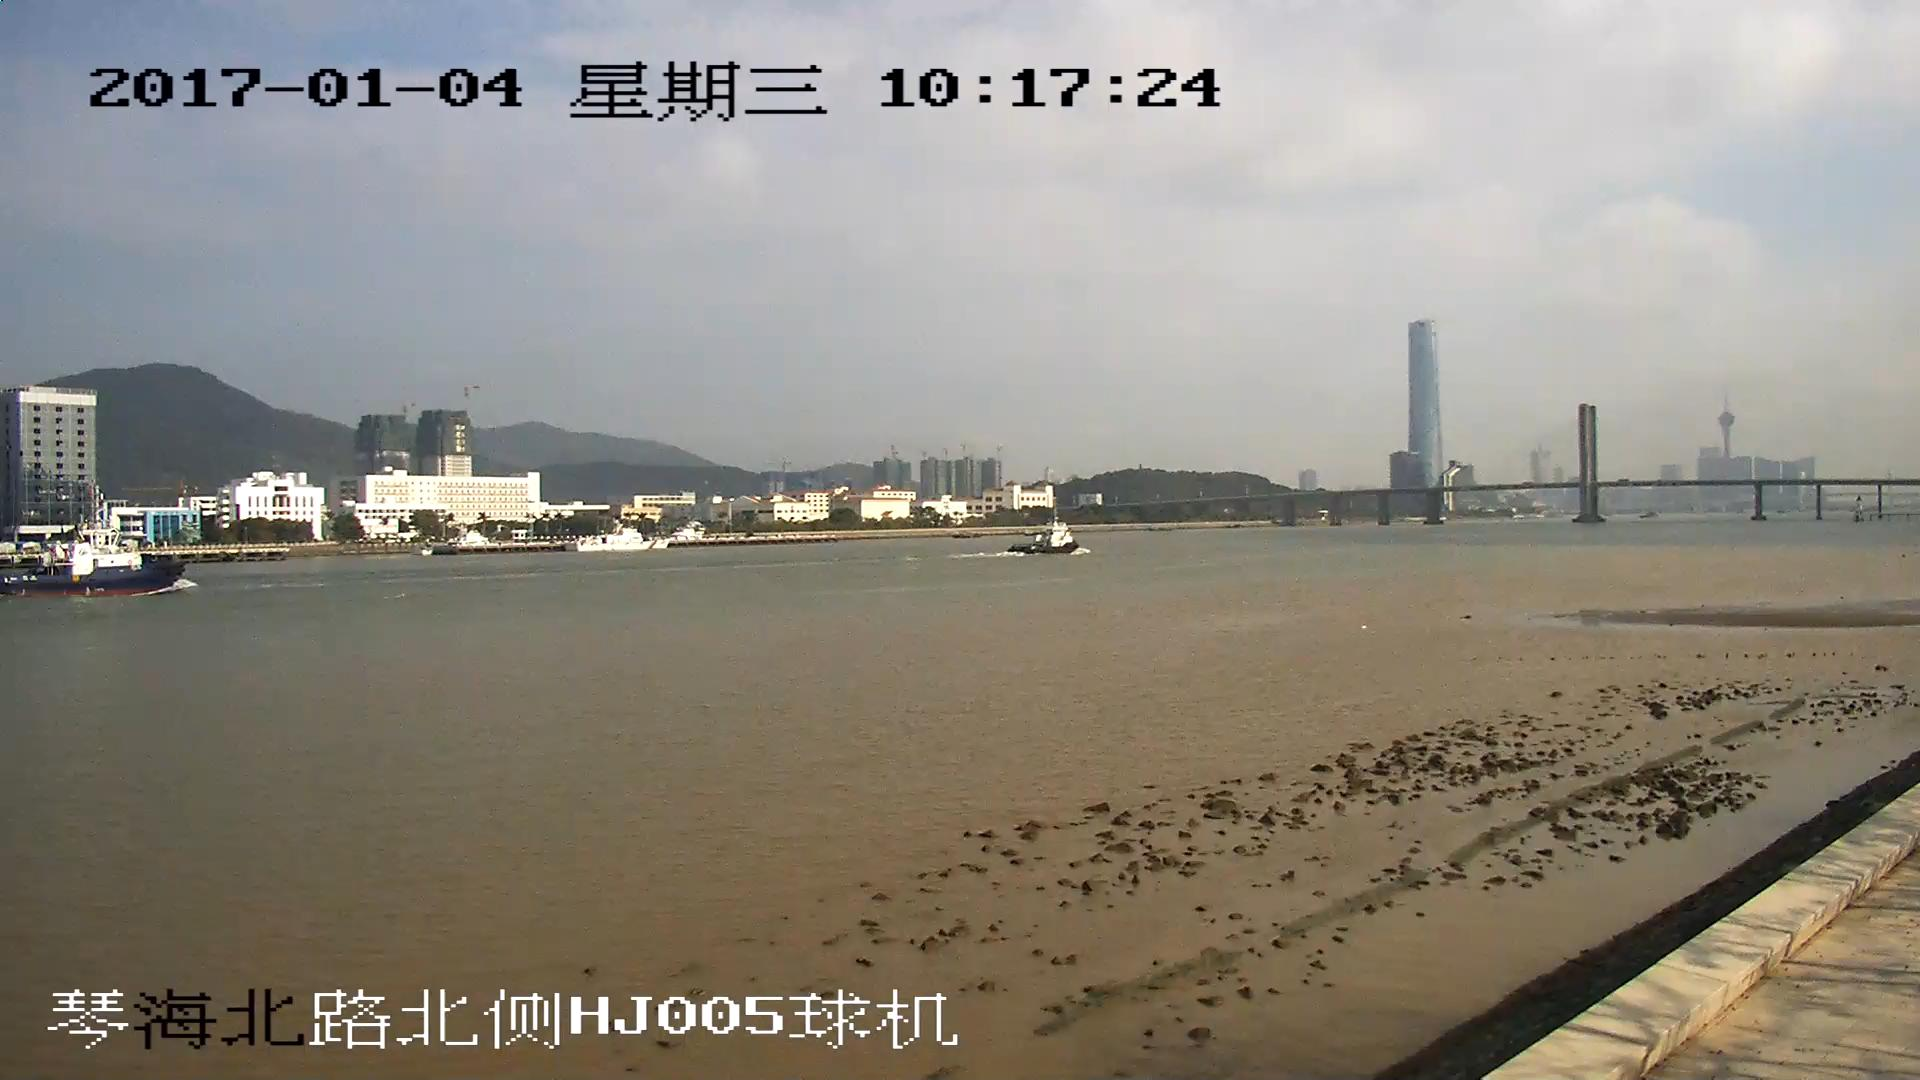passenger ship: (1, 497, 191, 592), (1012, 514, 1077, 556)
